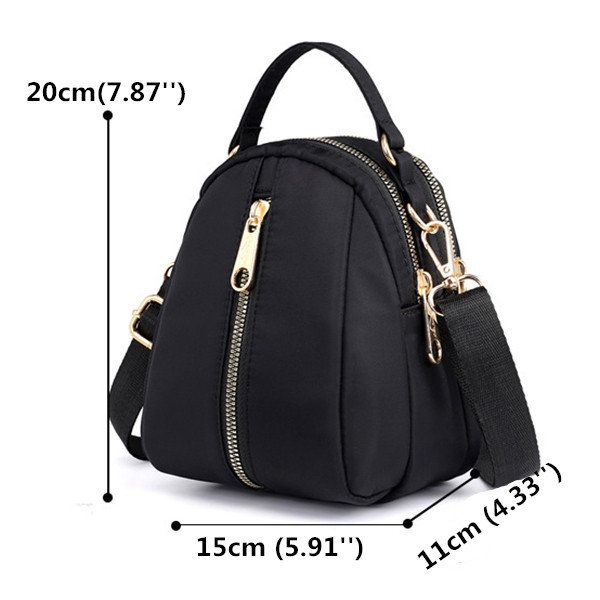nylon: (109, 42, 541, 507)
